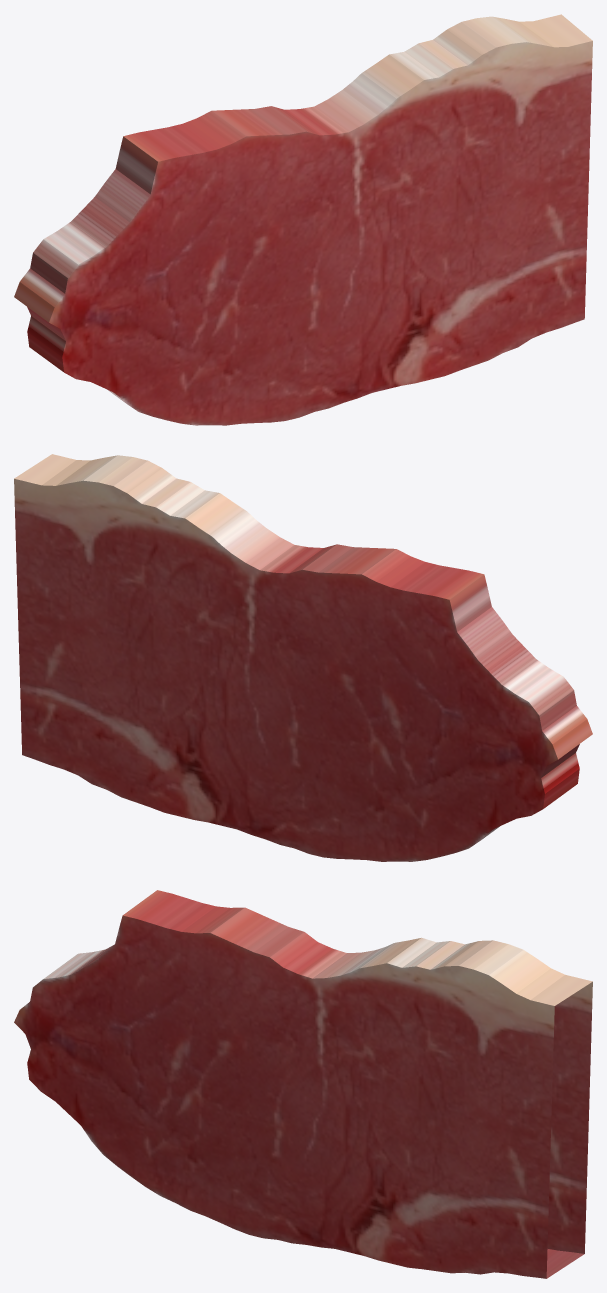
The model's file is porkcut-2.fbx.
The picture shows the model from 3 angles, top to bottom: view 1: azimuth 30°, elevation 25°; view 2: azimuth 150°, elevation 25°; view 3: azimuth 330°, elevation 25°; orthographic projection.
Parts seen in each view (by area): view 1: Object_2; view 2: Object_2; view 3: Object_2.
Part boxes in pixels (bbox=[...]): Object_2: bbox=[14, 14, 592, 425]; Object_2: bbox=[14, 454, 592, 861]; Object_2: bbox=[14, 890, 592, 1278].
Size of the model in its own units: 92.85 by 52.19 by 10.28.
